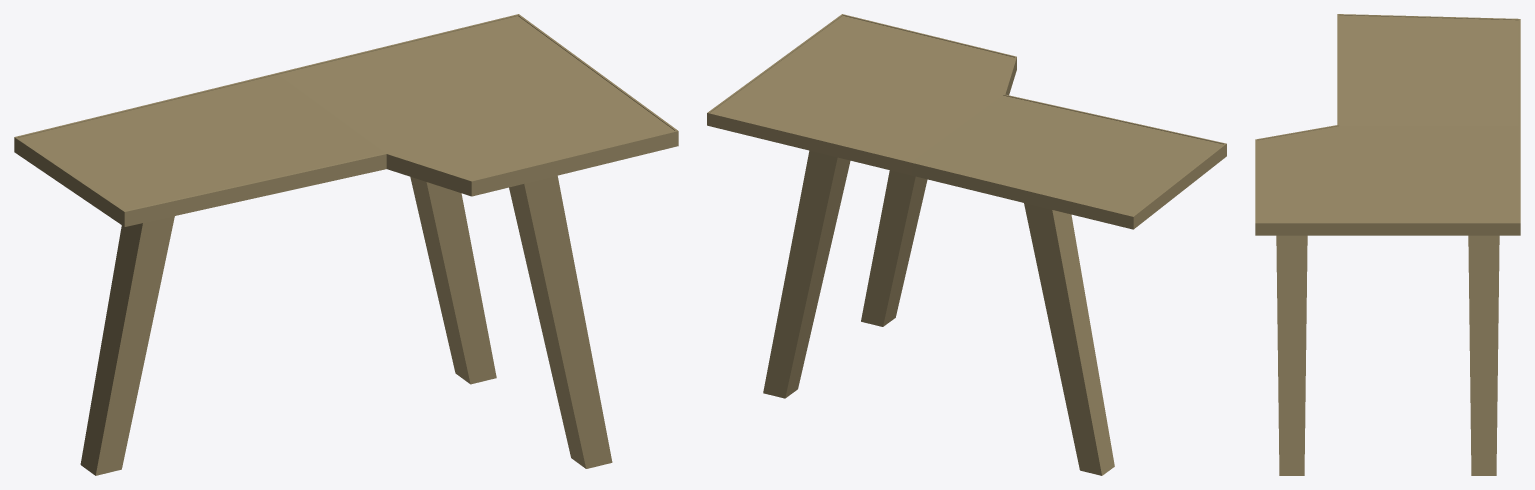
File: smalltable.fbx
3 renders of one model, left to right at view 1: azimuth 30°, elevation 25°; view 2: azimuth 150°, elevation 25°; view 3: azimuth 270°, elevation 25°, orthographic. The views are drawn at different scales.
Visible parts, largest first — view 1: smalltable; view 2: smalltable; view 3: smalltable.
Part boxes in pixels (x1,y1,x2,y2): smalltable: [14, 14, 678, 475]; smalltable: [707, 14, 1226, 475]; smalltable: [1255, 14, 1520, 475].
Size of the model in its own units: 77 by 48.95 by 42.26.
